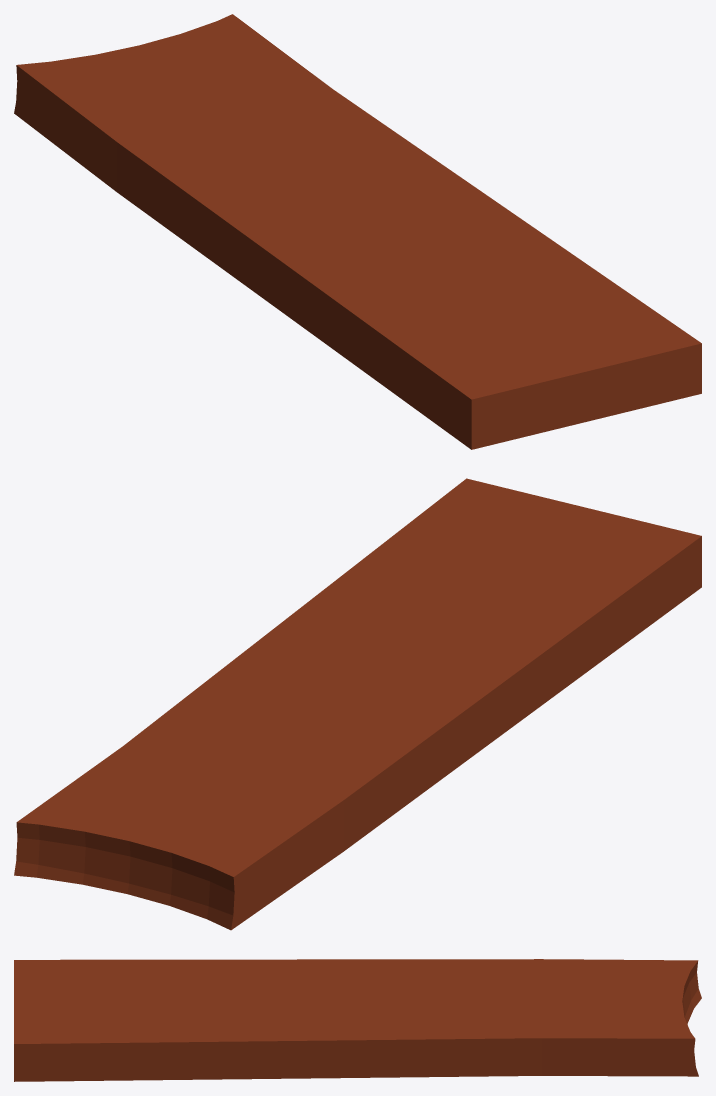
Rendered from BrokenPlanche3.fbx.
3 renders of one model, top to bottom at view 1: azimuth 30°, elevation 25°; view 2: azimuth 150°, elevation 25°; view 3: azimuth 270°, elevation 25°, orthographic. The views are drawn at different scales.
Visible parts, largest first — view 1: BrokenPlanche.003; view 2: BrokenPlanche.003; view 3: BrokenPlanche.003.
Boxes of the visible parts, x1,y1,x2,y2 form: BrokenPlanche.003: [14, 14, 701, 449]; BrokenPlanche.003: [14, 478, 701, 930]; BrokenPlanche.003: [14, 959, 701, 1081].
Bounding box in the file's own units: 187 × 38.61 × 639.
